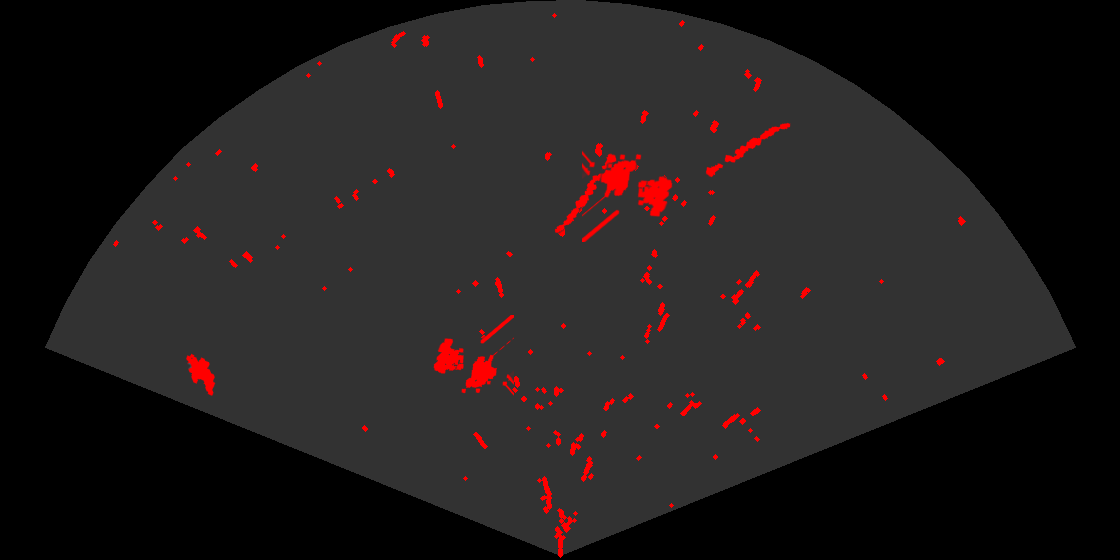AUV: (185, 352, 217, 398)
cage: (582, 149, 674, 242), (432, 315, 514, 397)
chain: (553, 152, 618, 235), (704, 121, 792, 179)
